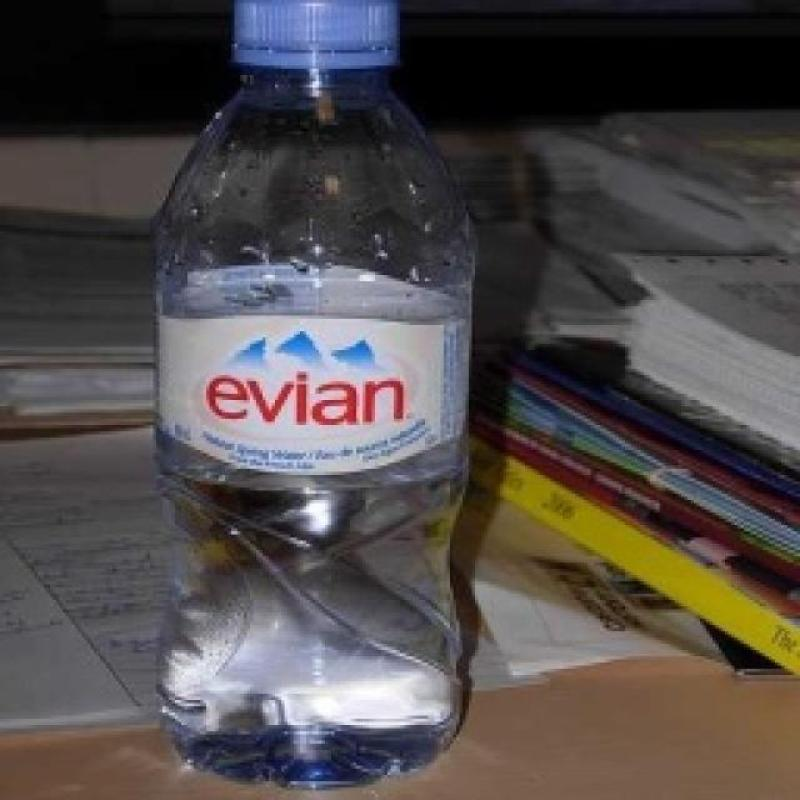botella: (146, 1, 476, 789)
